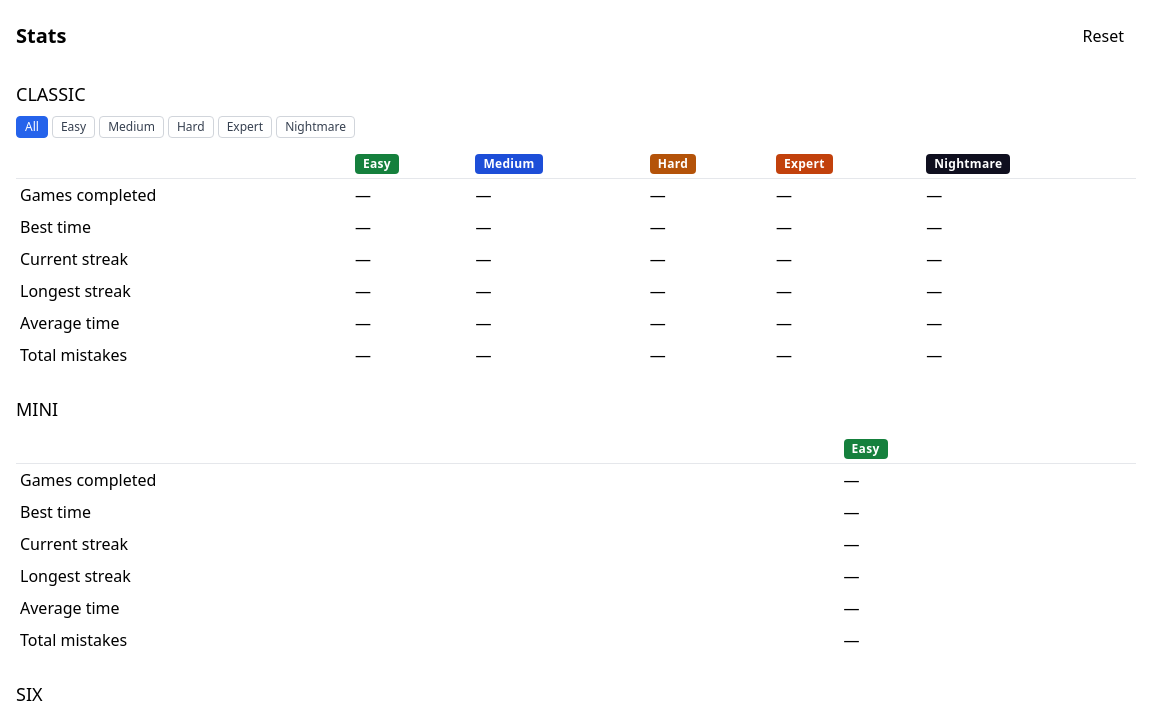
Scenario: Stats screen › filters tier columns when a per-variant filter pill is clicked
Expected: the text "expert" is shown, [776, 154, 833, 174]
// Click the Expert filter pill.
Click the button with test id "stats-filter-classic-expert".
click(245, 127)  # box [218, 116, 272, 138]
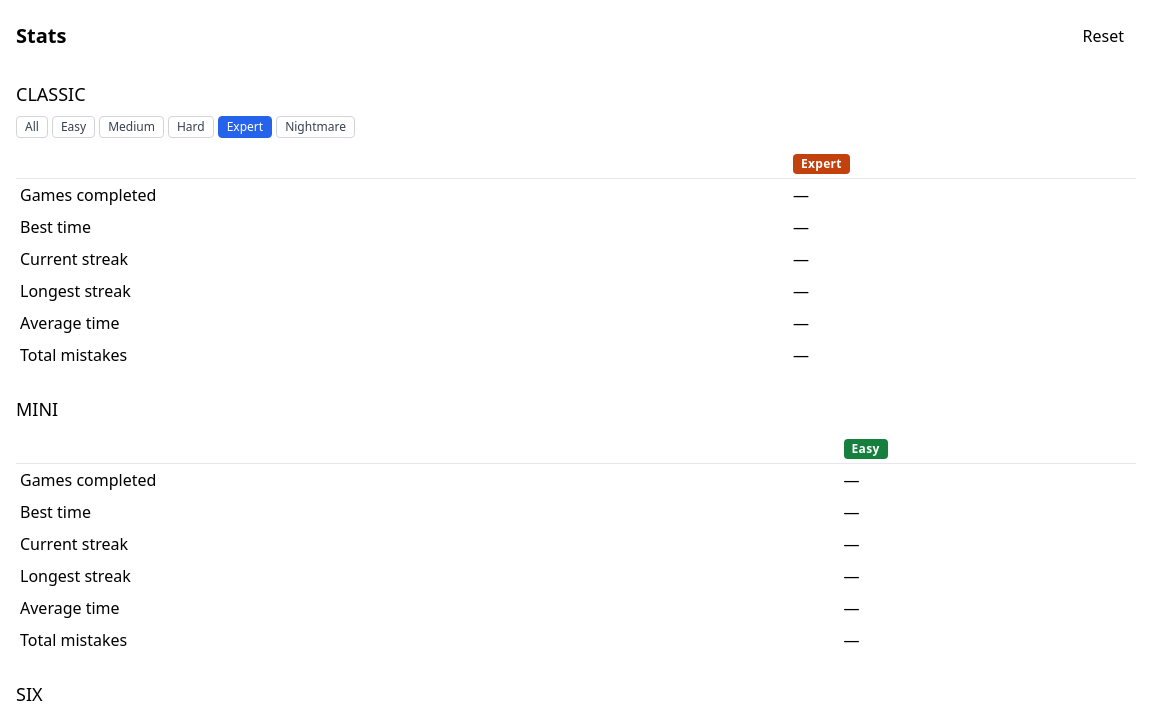
Now the cell with test id "stats-cell-classic-easy-games" is gone
Now the cell with test id "stats-cell-classic-medium-games" is gone
Now the cell with test id "stats-cell-classic-nightmare-games" is gone
// Click All to restore.
Click the button with test id "stats-filter-classic-all".
click(32, 127)  # box [16, 116, 48, 138]
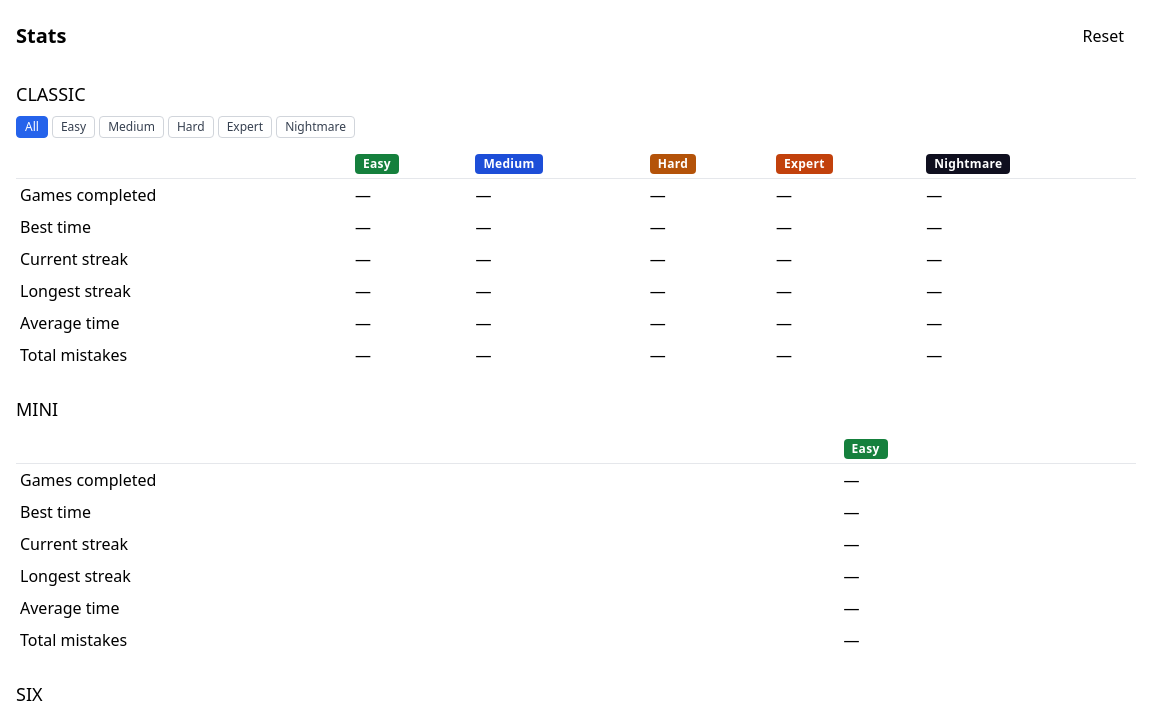
Now the cell with test id "stats-cell-classic-easy-games" is shown, box [351, 178, 471, 211]
Now the cell with test id "stats-cell-classic-medium-games" is shown, box [471, 178, 646, 211]
Now the cell with test id "stats-cell-classic-nightmare-games" is shown, box [922, 178, 1136, 211]
